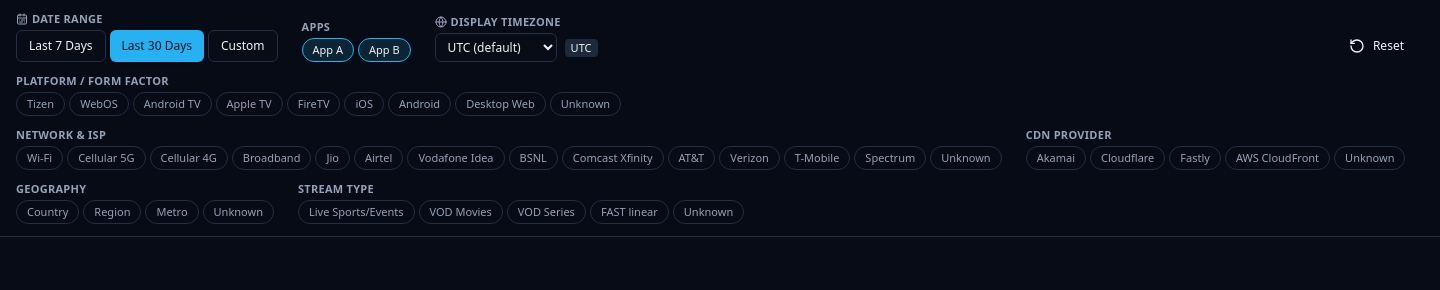
Scenario: GlobalFilterBar › offers the three date-range presets and writes the choice to the store (Req 10.2)
Click the button "Last 7 Days" at (61, 46), box [16,30,106,62]
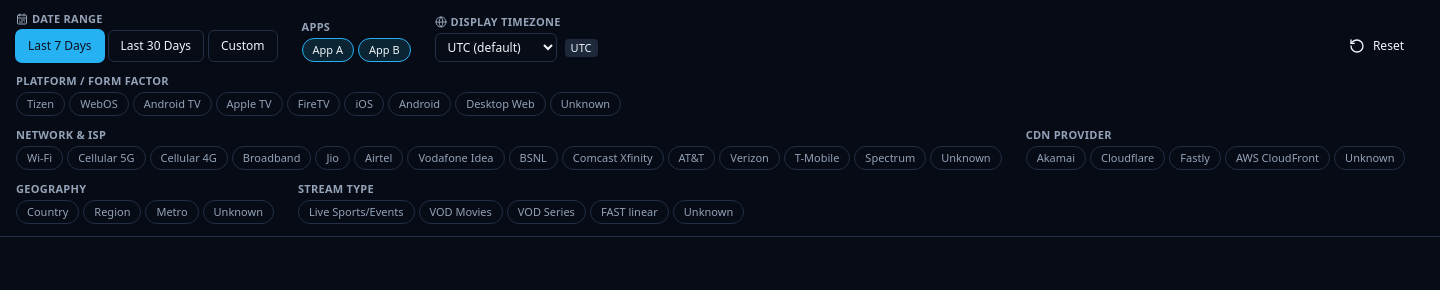
Custom reveals the from/to date inputs.
Click the button "Custom" at (243, 46), box [208,30,278,62]
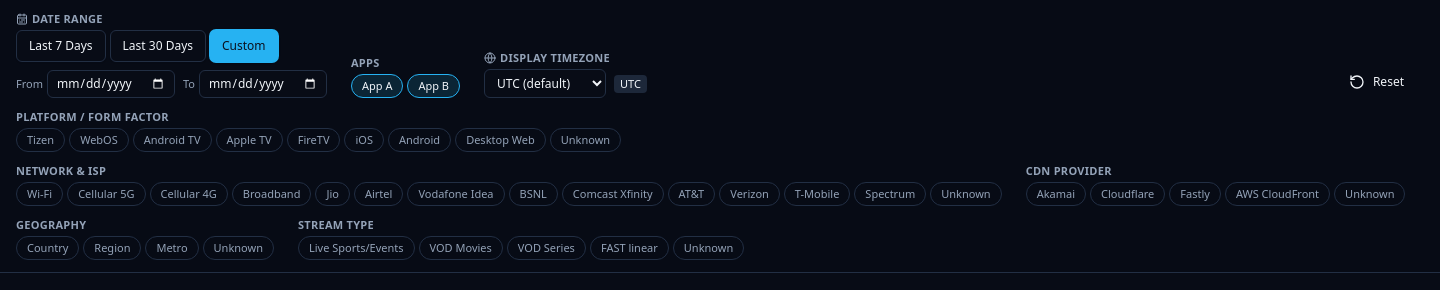
expect the date field named "custom range start" is shown: met, box [47,70,175,98]
expect the date field named "custom range end" is shown: met, box [199,70,327,98]
